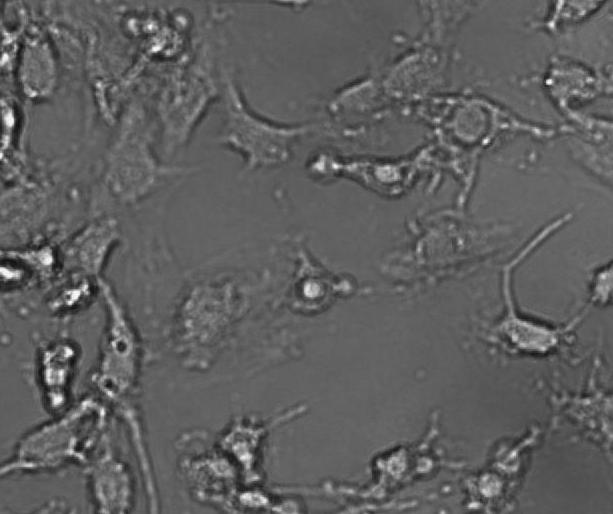Dead: (34, 335, 82, 420), (10, 236, 63, 281), (1, 86, 28, 168), (44, 275, 97, 316), (464, 466, 513, 508), (491, 434, 531, 476), (1, 256, 31, 290)
